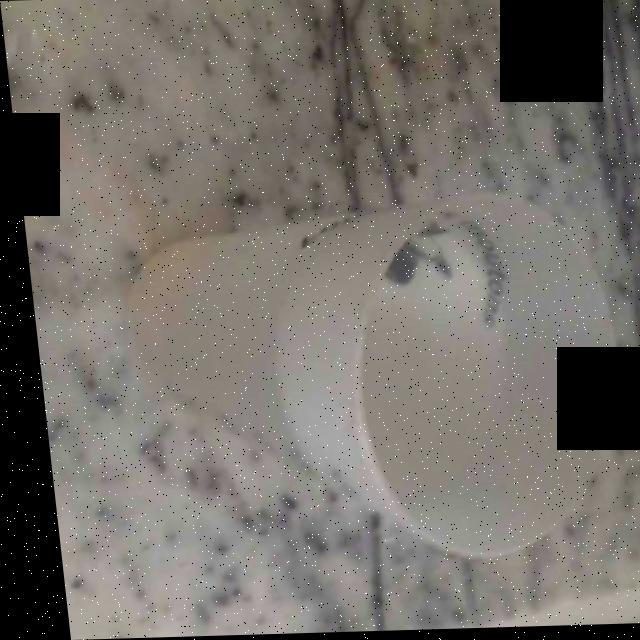water: (103, 207, 547, 570)
